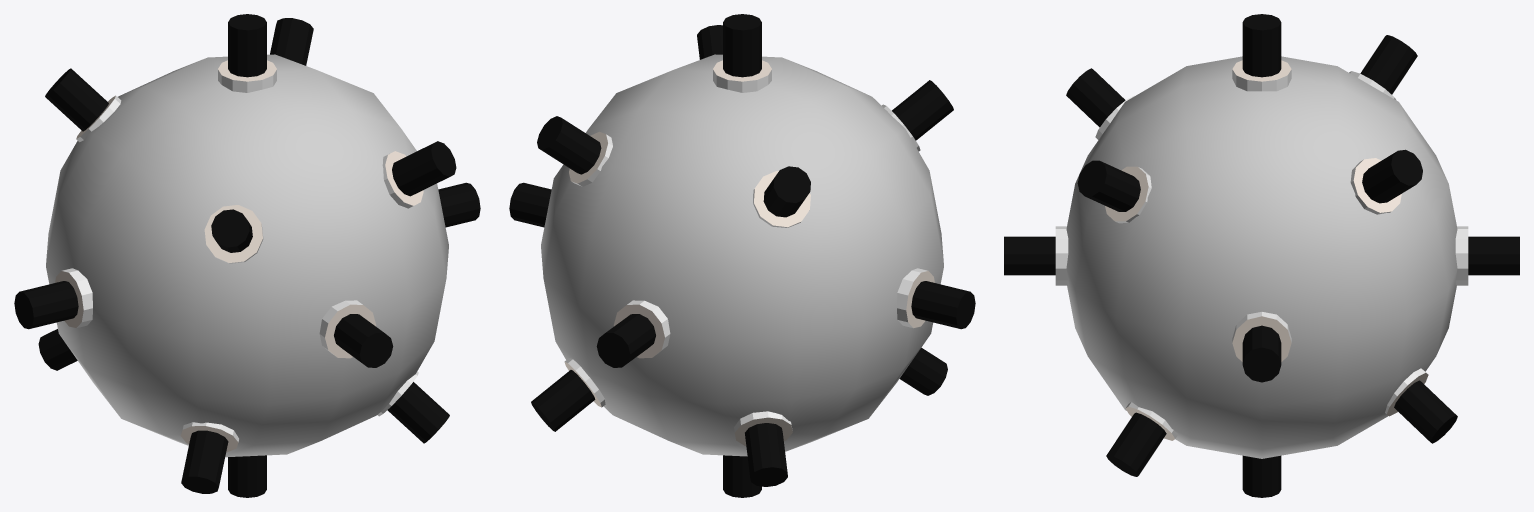
File: AngryBomb.fbx
3 renders of one model, left to right at view 1: azimuth 30°, elevation 25°; view 2: azimuth 150°, elevation 25°; view 3: azimuth 270°, elevation 25°, orthographic.
Parts seen in each view (by area): view 1: face, Cylinder; view 2: face, Cylinder; view 3: face, Cylinder.
Part boxes in pixels (x1=…): face: x1=46, y1=54, x2=448, y2=457; Cylinder: x1=14, y1=14, x2=480, y2=497; face: x1=541, y1=54, x2=943, y2=456; Cylinder: x1=509, y1=14, x2=975, y2=497; face: x1=1066, y1=56, x2=1457, y2=458; Cylinder: x1=1004, y1=14, x2=1519, y2=497.
Size of the model in its own units: 2.16 by 2.16 by 2.16.
